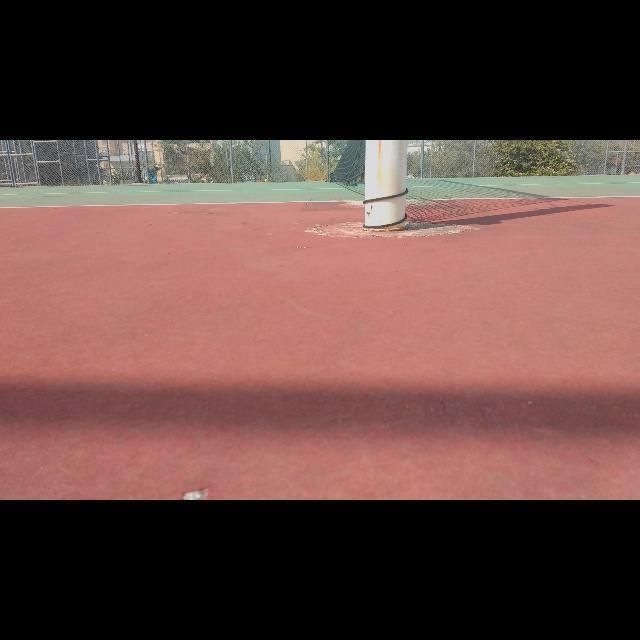tennis-ball: (265, 179, 268, 182)
